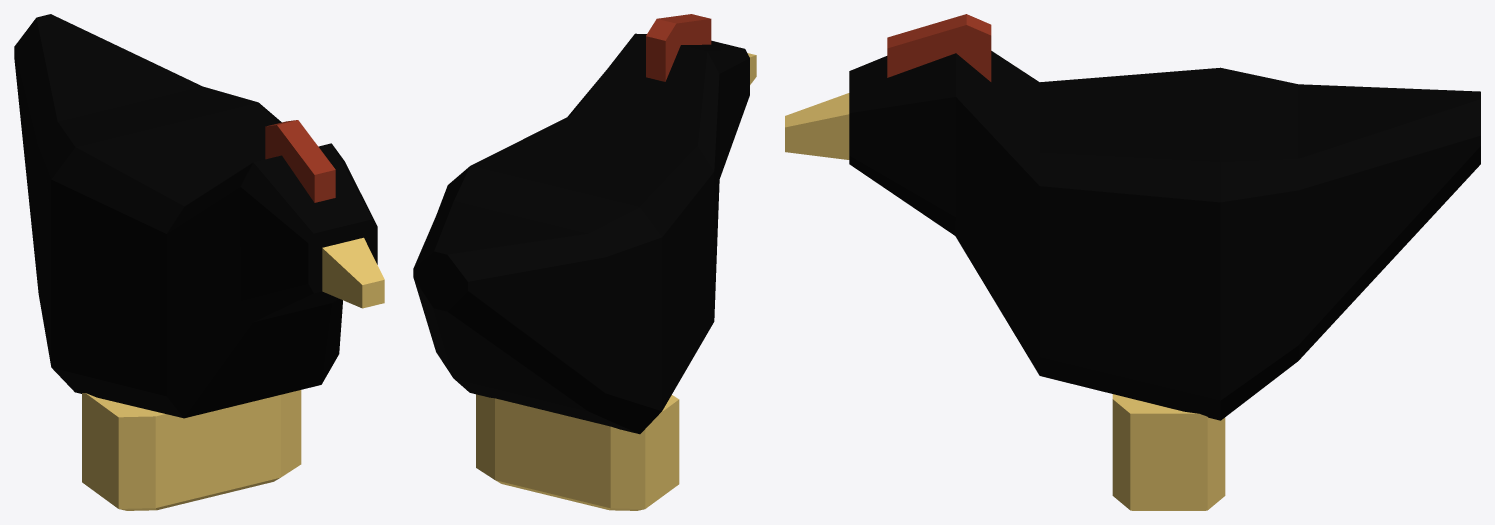
The model's file is Rooster.fbx.
3 views of the same model, side by side, from view 1: azimuth 30°, elevation 25°; view 2: azimuth 150°, elevation 25°; view 3: azimuth 270°, elevation 25° (orthographic). The views are drawn at different scales.
Parts seen in each view (by area): view 1: Rooster; view 2: Rooster; view 3: Rooster.
Boxes of the visible parts, <box> form: Rooster: <box>14,14,384,510</box>; Rooster: <box>413,14,756,510</box>; Rooster: <box>785,14,1480,510</box>.
Bounding box in the file's own units: 57.66 × 102 × 142.
